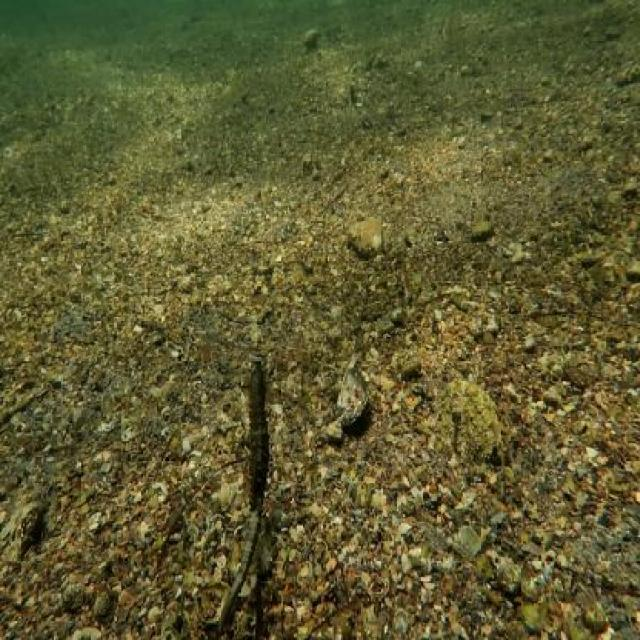Guttu: (238, 354, 282, 514)
